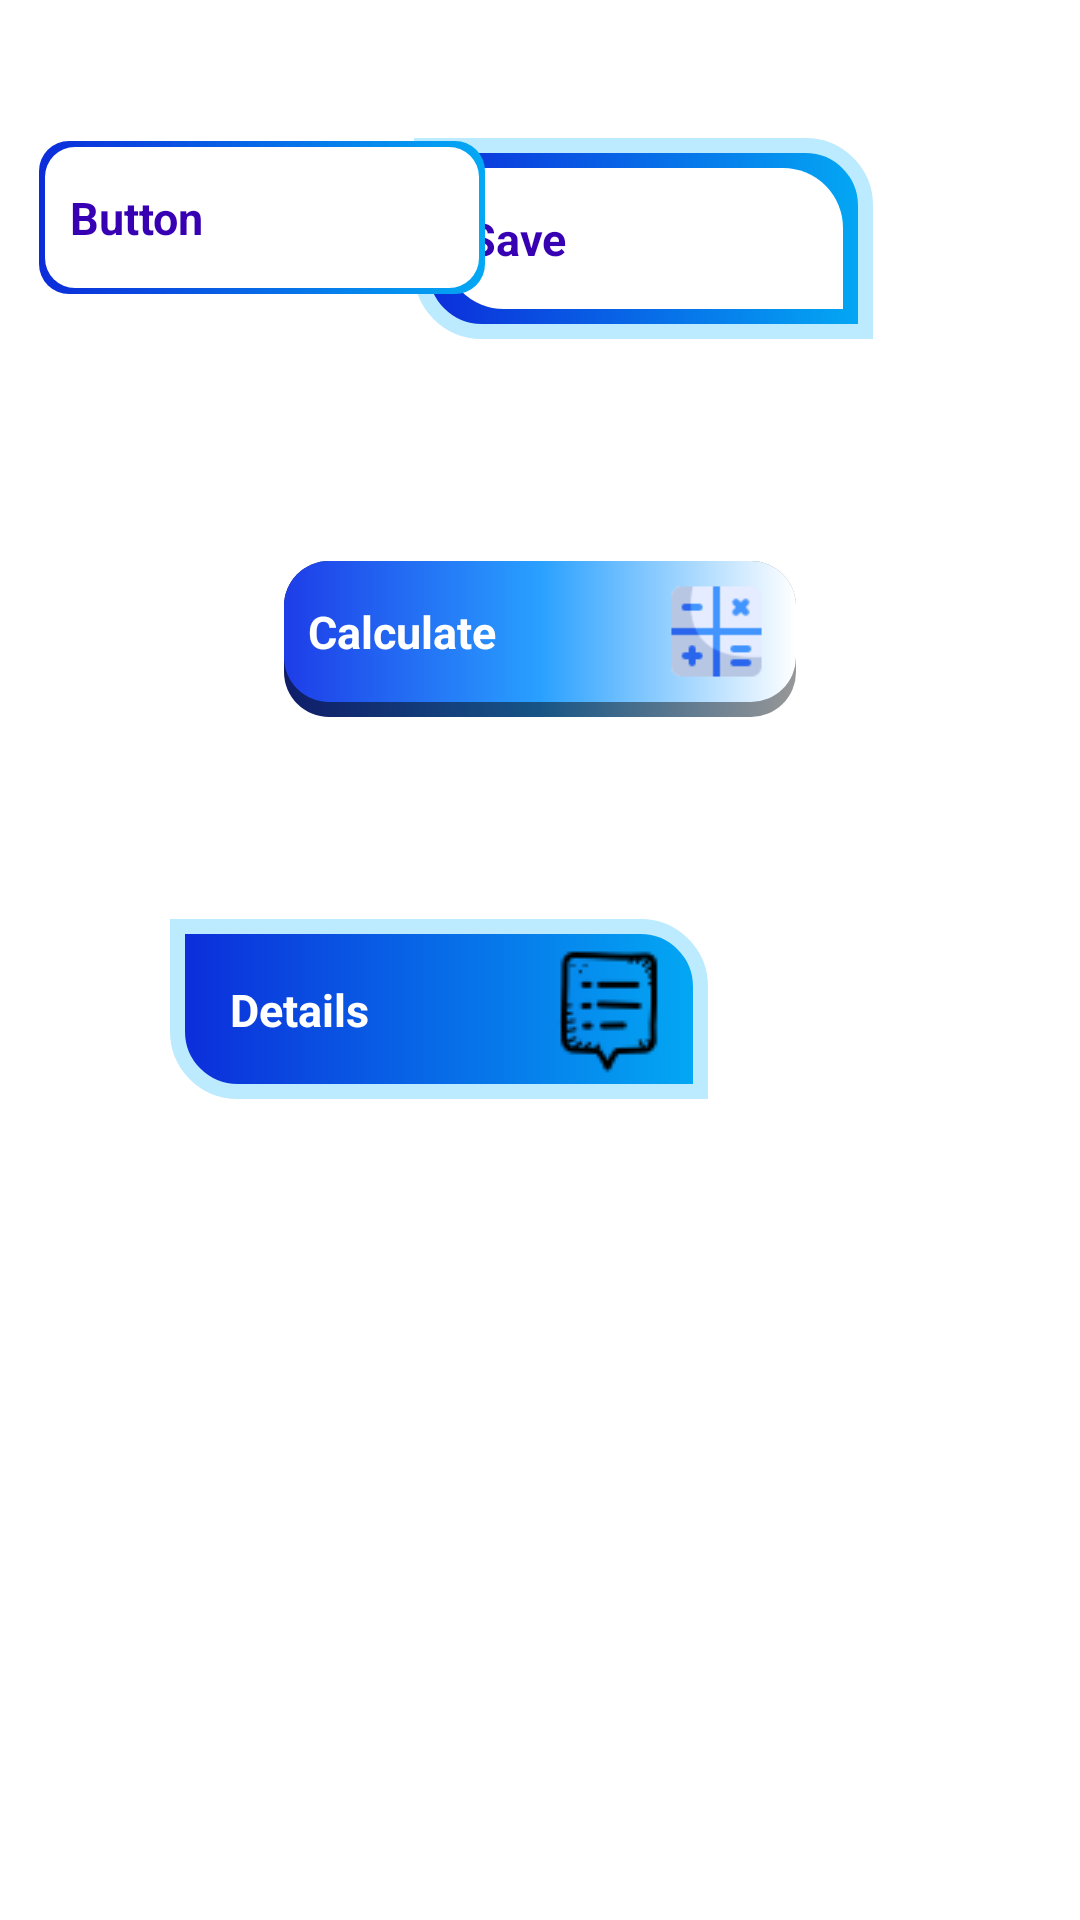

Screen size 1080*1920. Icon name, then its center in pixels as point (x, y):
cal: point (716, 631)
detail: point (609, 1009)
